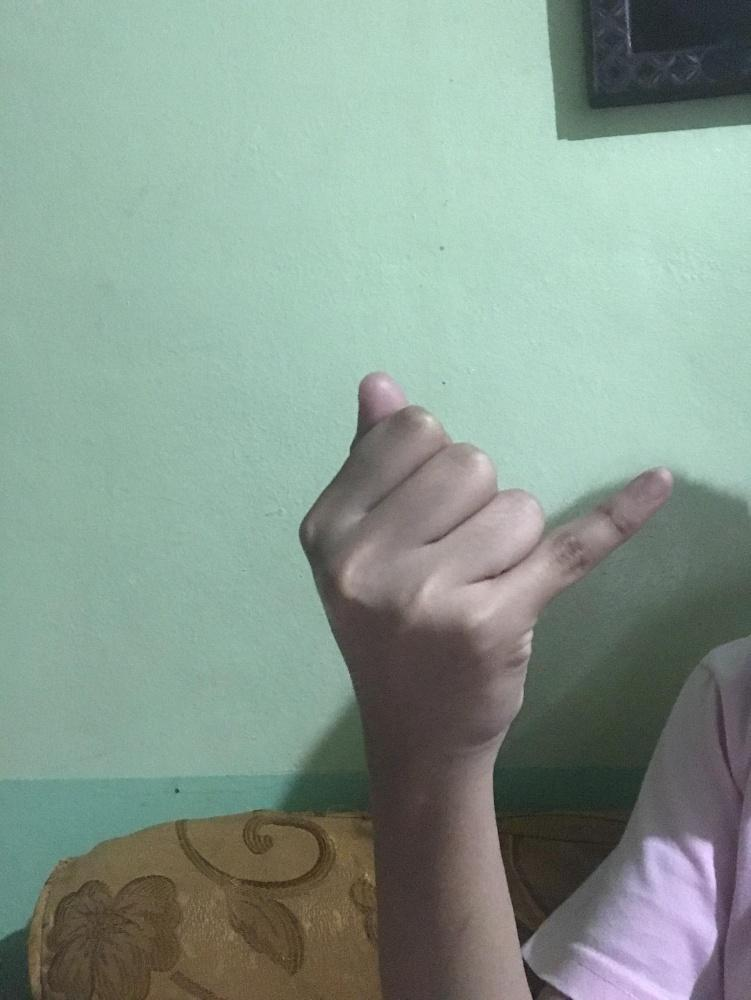j: (294, 365, 680, 761)
